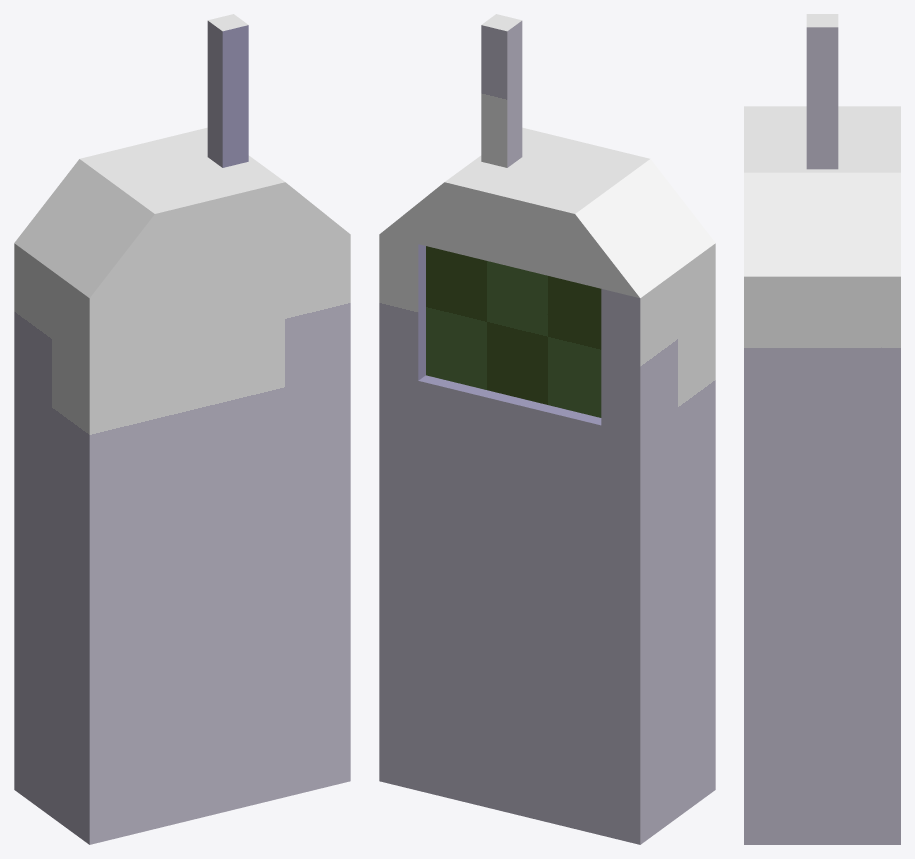
File: TwoWayRadio.fbx
3 views of the same model, side by side, from view 1: azimuth 30°, elevation 25°; view 2: azimuth 150°, elevation 25°; view 3: azimuth 270°, elevation 25° (orthographic). The views are drawn at different scales.
Parts seen in each view (by area): view 1: cuboid; view 2: cuboid; view 3: cuboid.
Boxes of the visible parts, x1,y1,x2,y2 form: cuboid: (14, 14, 350, 844); cuboid: (379, 14, 715, 844); cuboid: (744, 14, 900, 844).
Bounding box in the file's own units: 50 × 138 × 25.
1 material, 1 textured.
